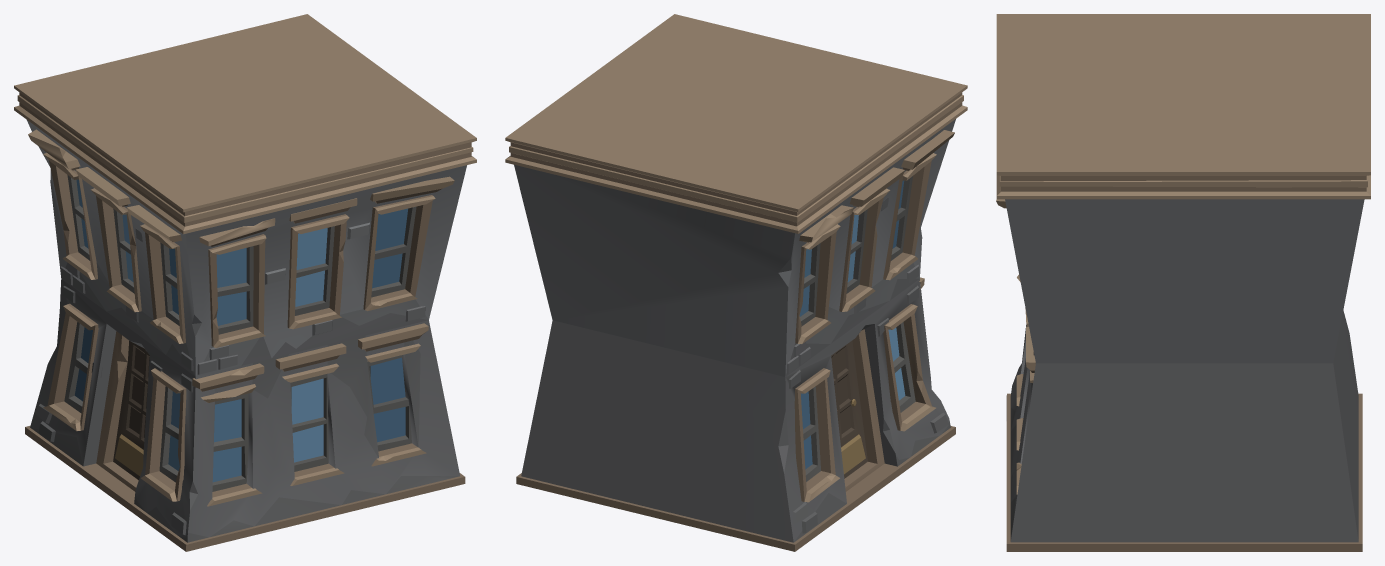
Rendered from House_1.fbx.
The picture shows the model from 3 angles, left to right: view 1: azimuth 30°, elevation 25°; view 2: azimuth 150°, elevation 25°; view 3: azimuth 270°, elevation 25°; orthographic projection. The views are drawn at different scales.
Visible parts, largest first — view 1: House_1; view 2: House_1; view 3: House_1.
Part boxes in pixels (left/top/right/bottom): House_1: left=14, top=14, right=476, bottom=551; House_1: left=505, top=14, right=967, bottom=551; House_1: left=996, top=14, right=1370, bottom=551.
Bounding box in the file's own units: 116 × 130 × 115.
